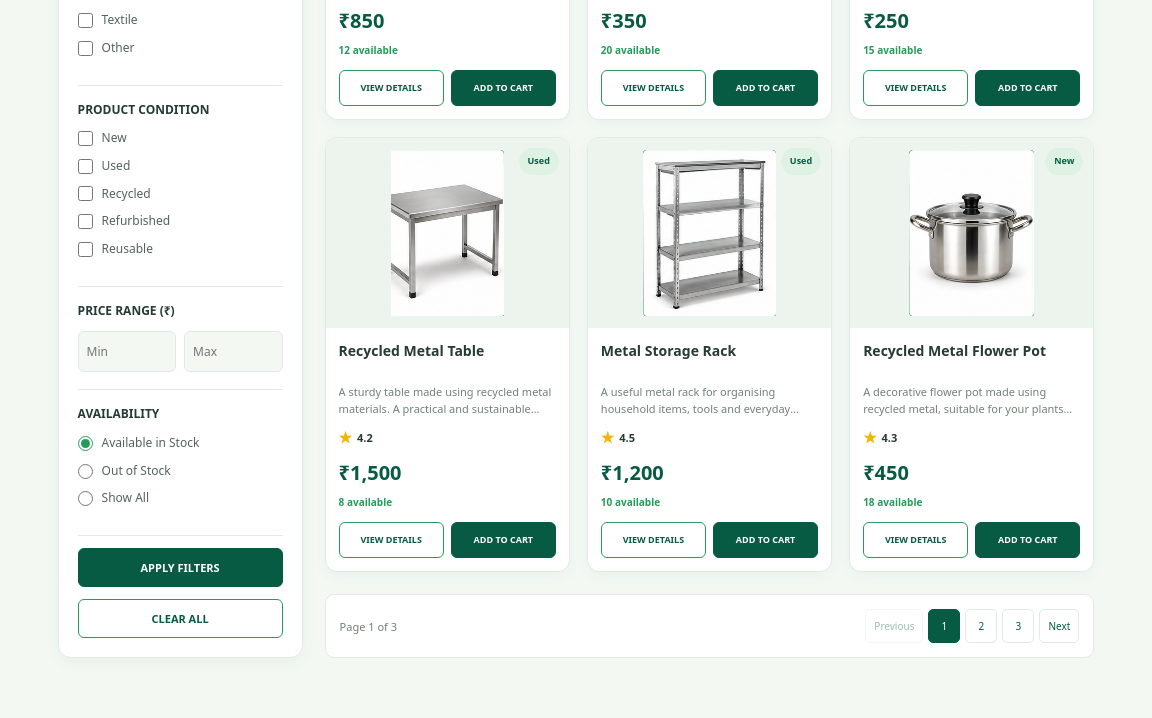
Test case: SearchResults Component › moves to the next page
This screenshot has width=1152, height=718.
(page scrolled)
Click the button "Next". click: (1060, 626)
box: [1040,609,1080,643]
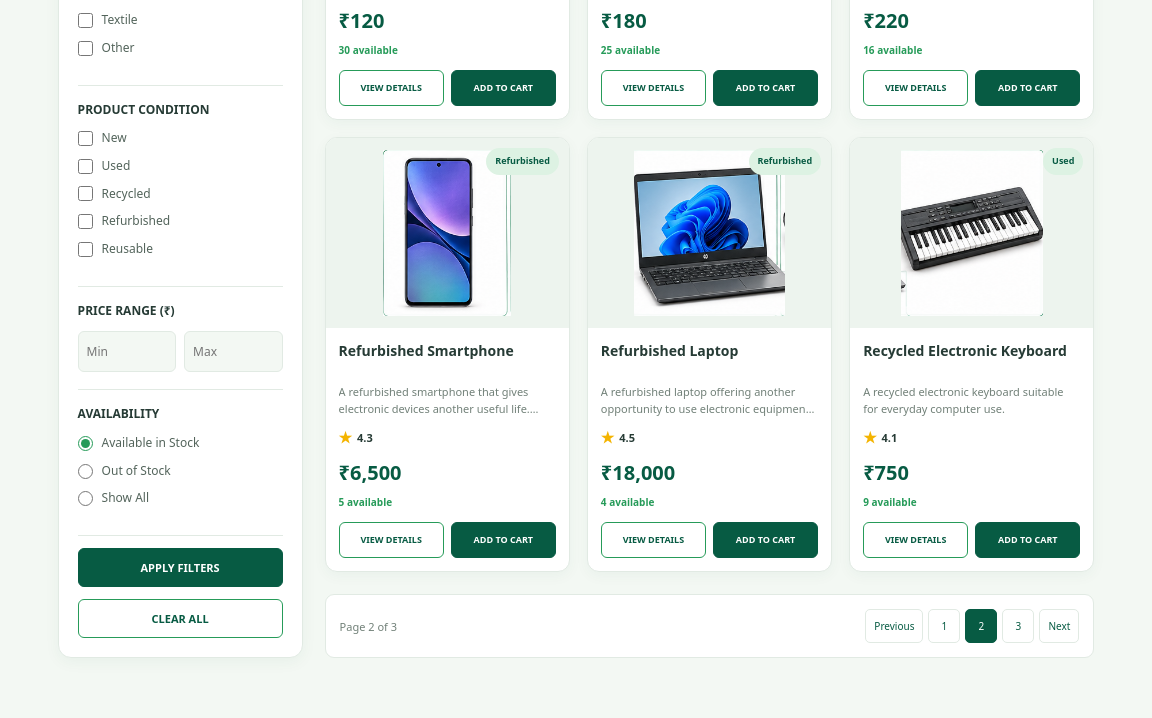
Result: the element with class "search-pagination" shows "Page 2 of" at [325,594,1094,658]
